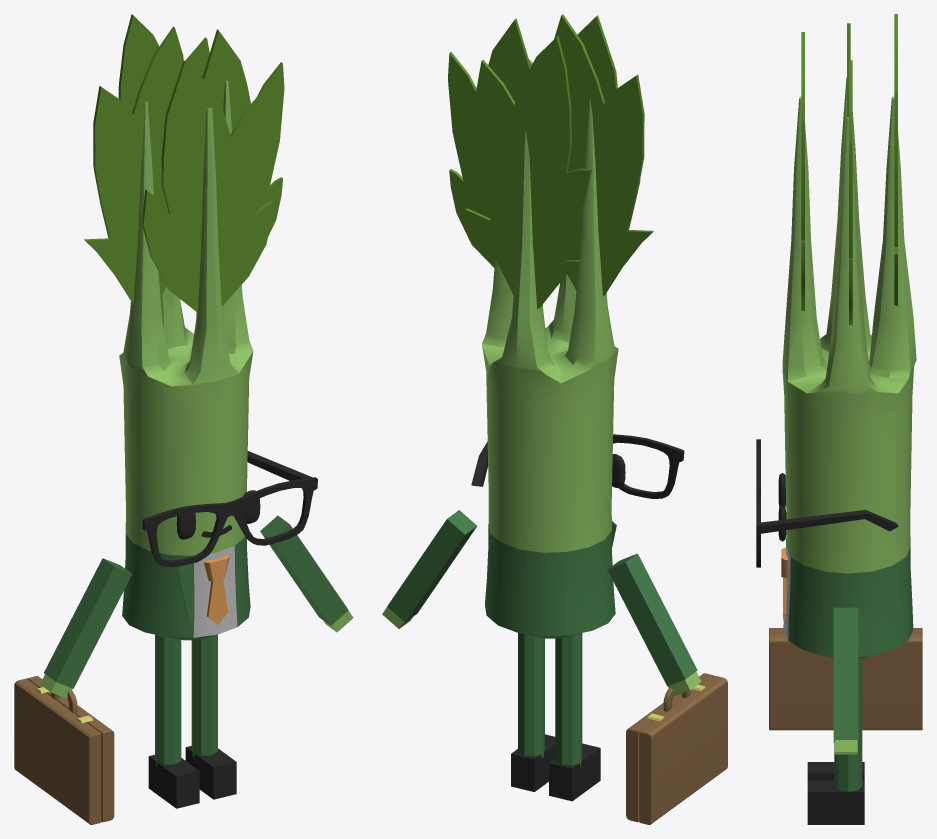
File: CeleryBoi_001.fbx
3 renders of one model, left to right at view 1: azimuth 30°, elevation 25°; view 2: azimuth 150°, elevation 25°; view 3: azimuth 270°, elevation 25°, orthographic. The views are drawn at different scales.
Parts seen in each view (by area): view 1: polySurface12, pPlane35, pPlane33, pCube125, polySurface13, pCube112, pPlane49, pCube107, pCylinder8, pCube113, pCylinder9, pPlane48 (+5 smaller); view 2: polySurface12, pPlane48, pPlane33, pCube125, polySurface13, pPlane49, pCube112, pCylinder8, pCube113, pCylinder9, pCube171, pPlane35 (+2 smaller); view 3: polySurface12, pCube125, polySurface13, pCube113, pCube169, pCylinder9, pCube176, pPlane48, pPlane35, pPlane49, pCube107, pCube171 (+1 smaller).
Part boxes in pixels (x1=…): polySurface12: x1=119, y1=81, x2=253, y2=555; pPlane35: x1=142, y1=60, x2=273, y2=312; pPlane33: x1=84, y1=26, x2=183, y2=302; pCube125: x1=14, y1=676, x2=114, y2=824; polySurface13: x1=122, y1=534, x2=250, y2=637; pCube112: x1=44, y1=558, x2=132, y2=688; pPlane49: x1=202, y1=29, x2=284, y2=235; pCube107: x1=142, y1=477, x2=317, y2=567; pCylinder8: x1=155, y1=634, x2=181, y2=765; pCube113: x1=260, y1=515, x2=348, y2=625; pCylinder9: x1=191, y1=634, x2=217, y2=757; pPlane48: x1=118, y1=14, x2=209, y2=112; polySurface12: x1=482, y1=98, x2=618, y2=552; pPlane48: x1=465, y1=36, x2=591, y2=308; pPlane33: x1=554, y1=14, x2=653, y2=296; pCube125: x1=626, y1=673, x2=727, y2=824; polySurface13: x1=485, y1=524, x2=615, y2=636; pPlane49: x1=448, y1=18, x2=530, y2=267; pCube112: x1=607, y1=553, x2=697, y2=686; pCylinder8: x1=555, y1=633, x2=582, y2=766; pCube113: x1=387, y1=510, x2=476, y2=622; pCylinder9: x1=518, y1=633, x2=544, y2=757; pCube171: x1=549, y1=743, x2=600, y2=801; pPlane35: x1=529, y1=15, x2=640, y2=187; polySurface12: x1=782, y1=77, x2=916, y2=573; pCube125: x1=769, y1=628, x2=922, y2=730; polySurface13: x1=783, y1=547, x2=913, y2=657; pCube113: x1=833, y1=607, x2=858, y2=742; pCube169: x1=807, y1=780, x2=864, y2=824; pCylinder9: x1=834, y1=658, x2=862, y2=791; pCube176: x1=761, y1=510, x2=898, y2=533; pPlane48: x1=894, y1=14, x2=897, y2=306; pPlane35: x1=801, y1=32, x2=804, y2=311; pPlane49: x1=849, y1=60, x2=852, y2=325; pCube107: x1=756, y1=439, x2=760, y2=567; pCube171: x1=807, y1=762, x2=864, y2=780.
Size of the model in its own units: 4.86 by 11.71 by 2.26.
